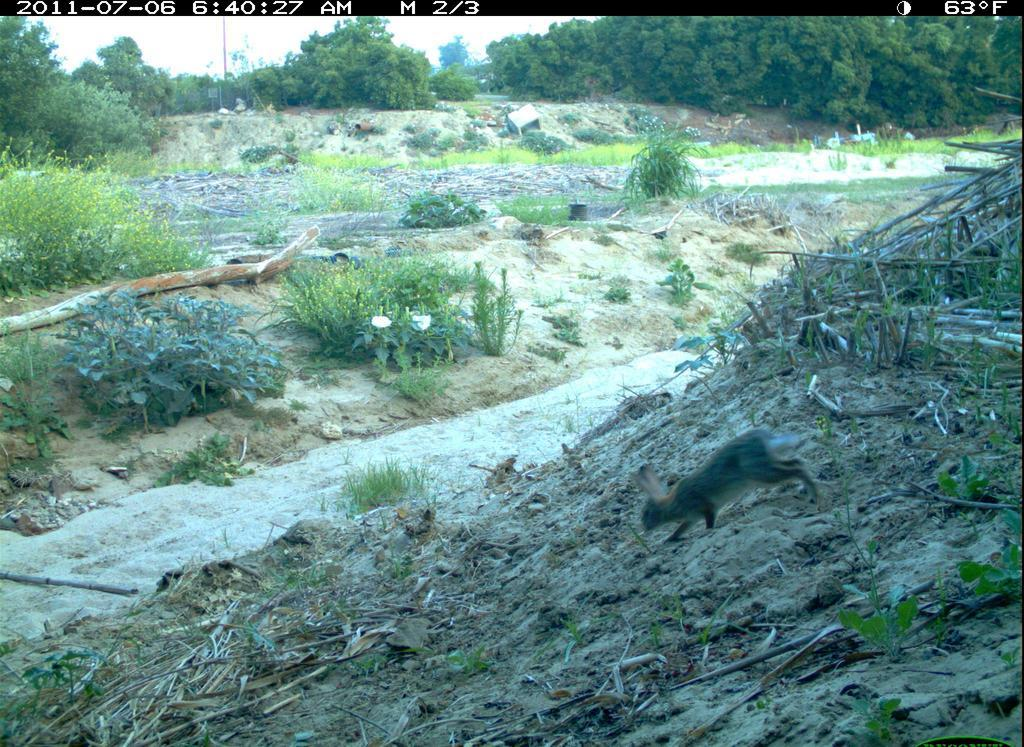rabbit: (625, 422, 833, 550)
